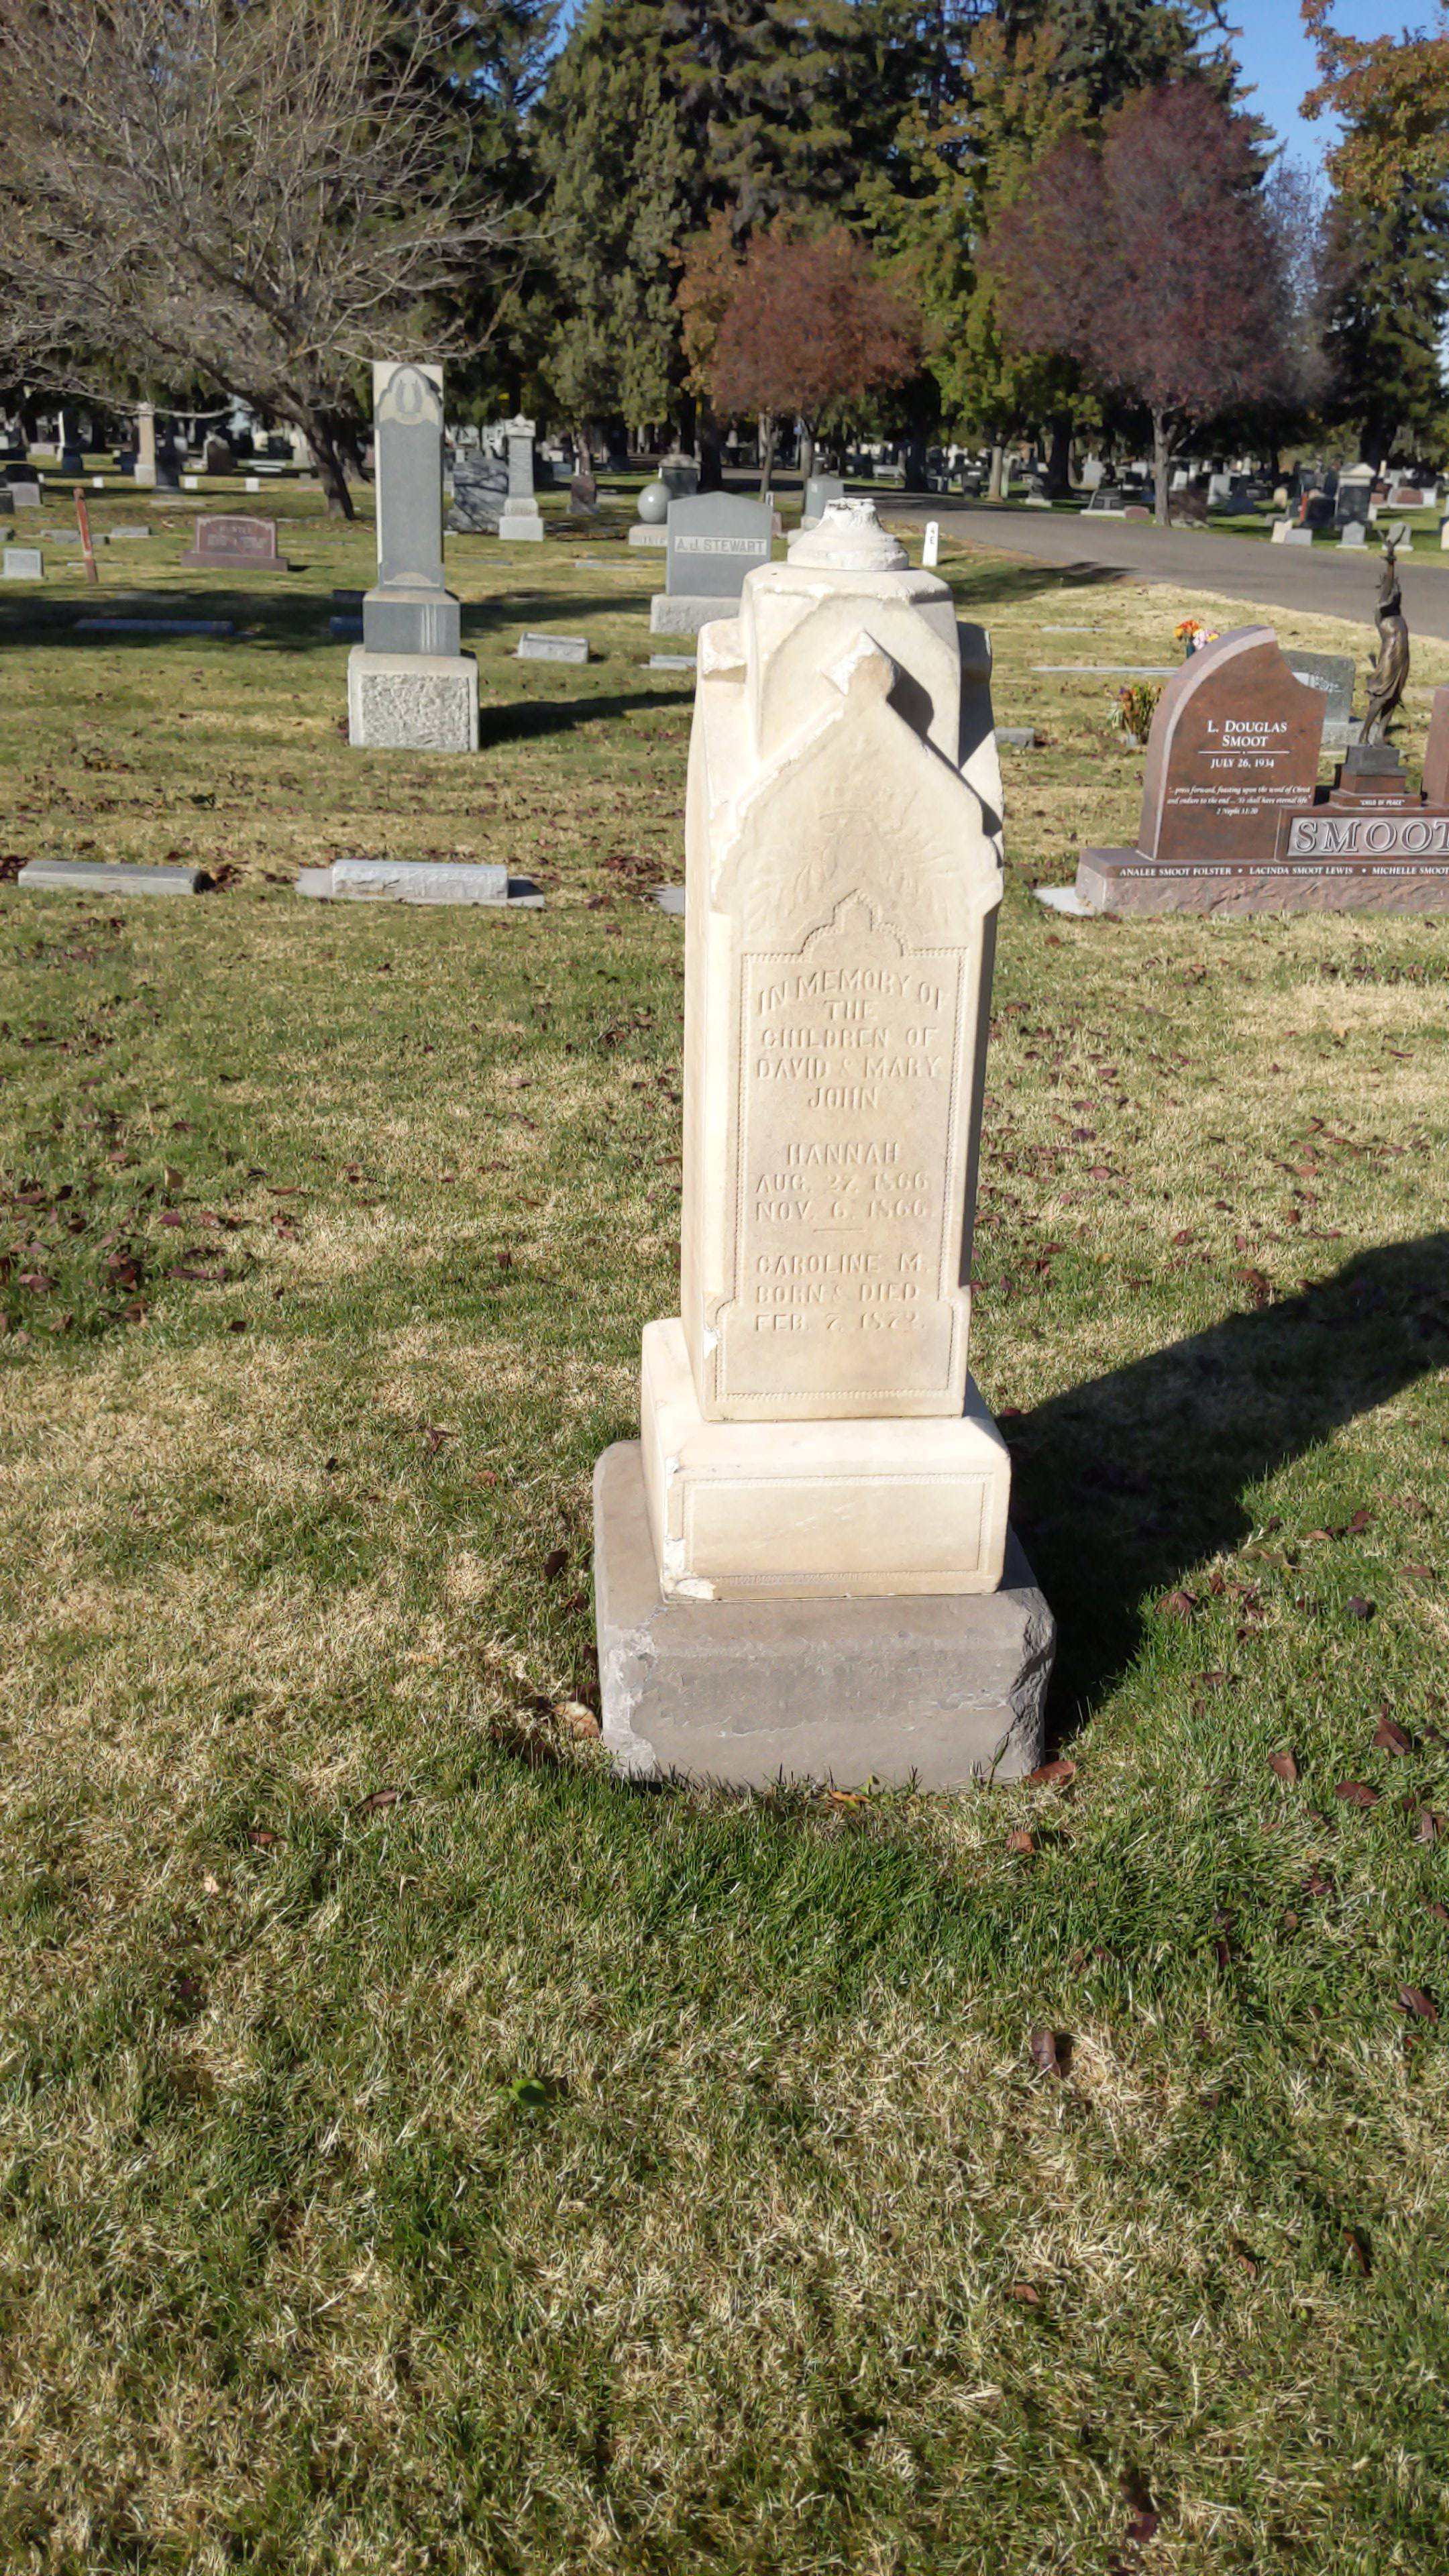obelisk: (644, 510, 1008, 1605)
